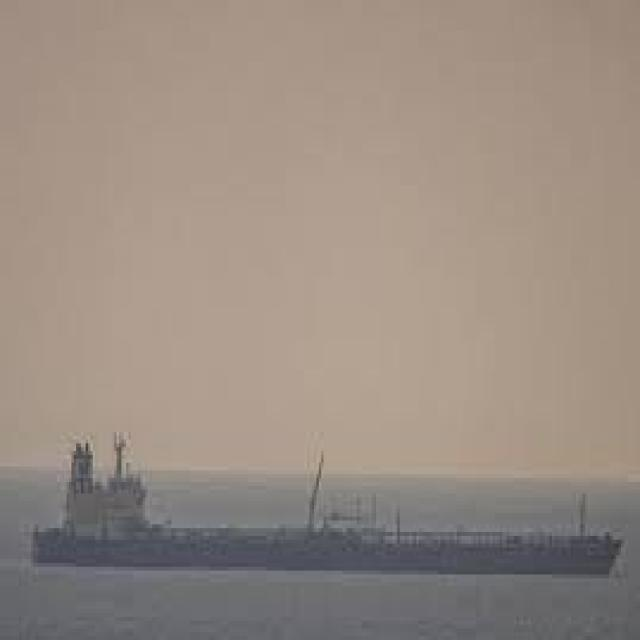cargoship: (25, 424, 621, 587)
